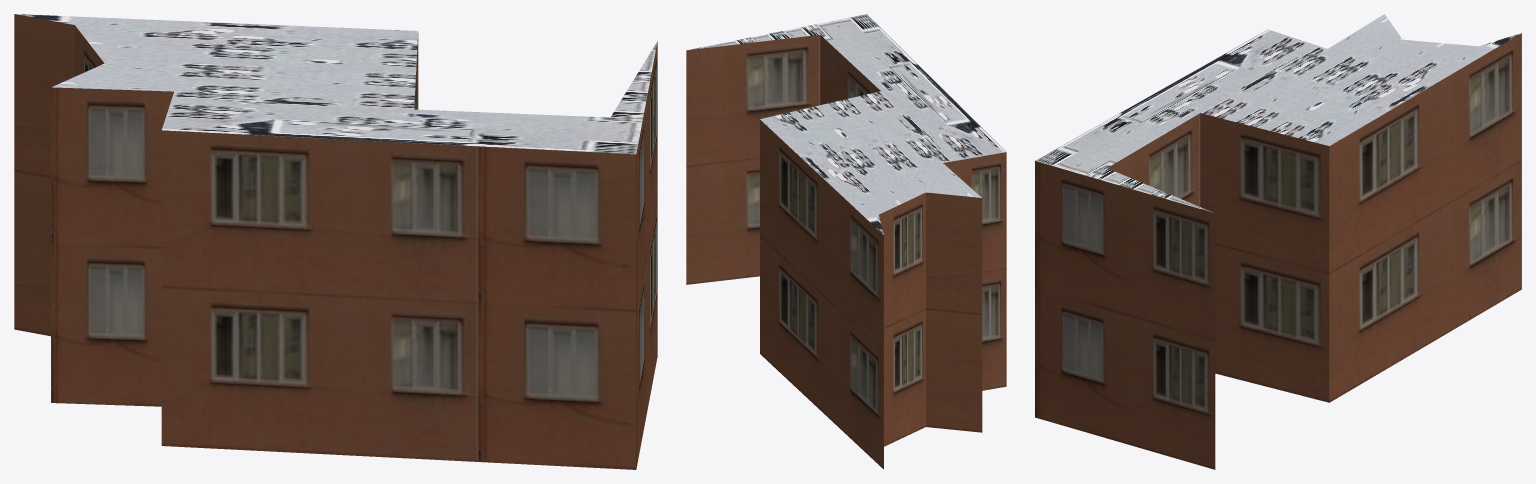
File: ResTex__3271.fbx
3 views of the same model, side by side, from view 1: azimuth 30°, elevation 25°; view 2: azimuth 150°, elevation 25°; view 3: azimuth 270°, elevation 25° (orthographic). The views are drawn at different scales.
Parts seen in each view (by area): view 1: CityEngineMaterial_20_m, CityEngineMaterial_4_m; view 2: CityEngineMaterial_20_m, CityEngineMaterial_4_m; view 3: CityEngineMaterial_20_m, CityEngineMaterial_4_m.
Boxes of the visible parts, x1,y1,x2,y2 form: CityEngineMaterial_20_m: [14, 14, 657, 469]; CityEngineMaterial_4_m: [15, 14, 657, 154]; CityEngineMaterial_20_m: [686, 35, 1006, 469]; CityEngineMaterial_4_m: [687, 14, 1006, 234]; CityEngineMaterial_20_m: [1035, 33, 1521, 469]; CityEngineMaterial_4_m: [1035, 14, 1521, 212].
Bounding box in the file's own units: 10 × 6 × 10.32.
2 materials, 2 textured.
